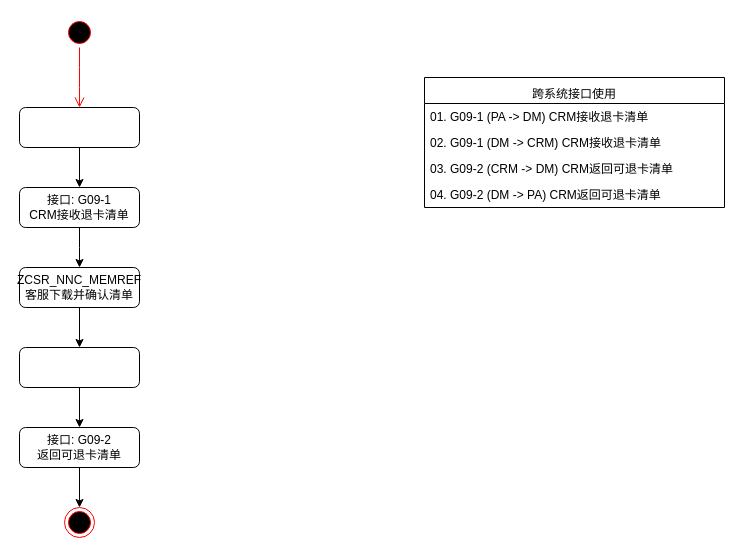
This 742x555 diagram has some shape labels left out. Here are the shapes that lost their labels. From the top down, the centre of each, then its label:
At (x=79, y=127): "银行发送联名卡退卡清单".
At (x=79, y=367): "ZCSR_NNC_MEMREF确认可退卡会员清单".
